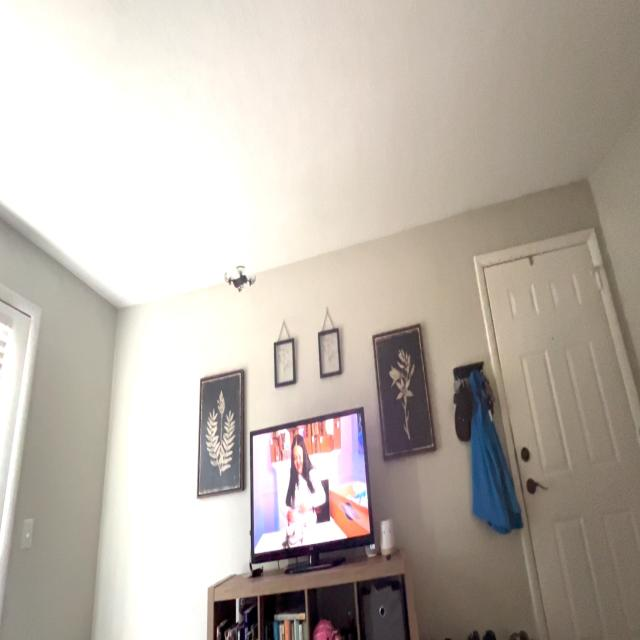drone: (218, 261, 261, 310)
